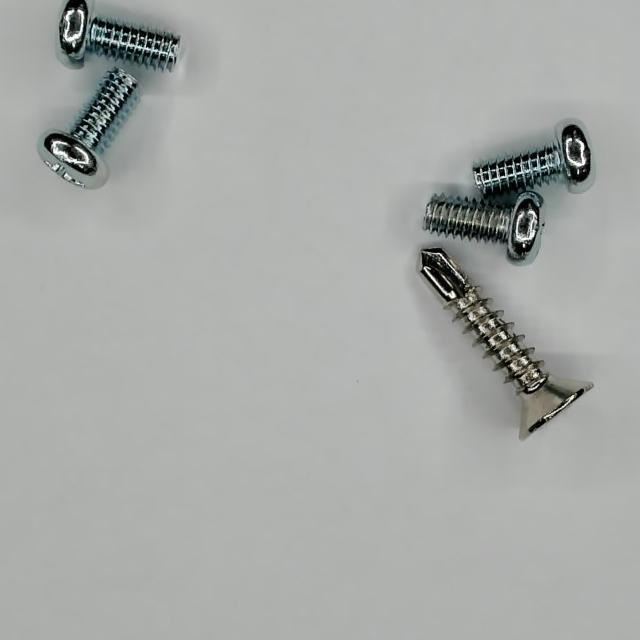Screw: (423, 249, 594, 440), (37, 66, 138, 188), (474, 121, 593, 196), (58, 0, 180, 70), (426, 192, 544, 264)
